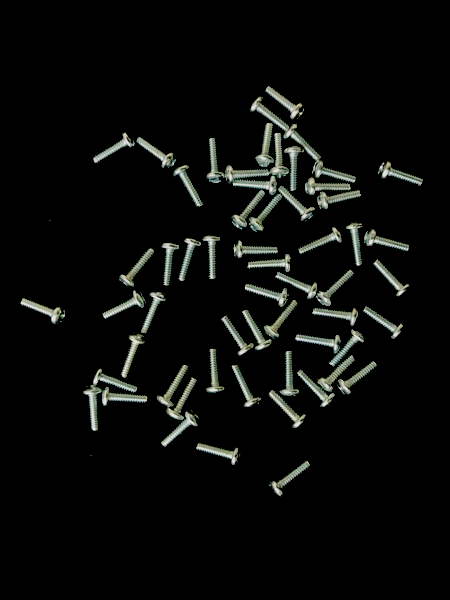shortscrew: (269, 461, 313, 498), (269, 390, 308, 431), (297, 370, 337, 409), (172, 165, 207, 209), (160, 411, 201, 448), (374, 259, 411, 300), (337, 361, 379, 397), (317, 269, 356, 307), (118, 248, 155, 288), (363, 304, 404, 340), (93, 131, 137, 164), (318, 356, 356, 394), (284, 124, 322, 162), (277, 186, 316, 223), (330, 328, 366, 368), (264, 299, 300, 339), (265, 85, 306, 120), (243, 308, 275, 352), (221, 317, 255, 358), (231, 190, 265, 231), (20, 297, 68, 326), (136, 137, 178, 170), (166, 378, 198, 421), (232, 365, 263, 409), (275, 271, 319, 302), (158, 364, 189, 407), (102, 290, 146, 320), (298, 226, 343, 255), (248, 195, 282, 233), (92, 367, 138, 395), (140, 290, 168, 336), (249, 97, 288, 130), (378, 160, 424, 187), (120, 332, 146, 379), (243, 283, 290, 309), (317, 189, 363, 214), (312, 159, 357, 184), (196, 443, 242, 467), (365, 228, 409, 253), (178, 238, 202, 283), (283, 146, 305, 192), (295, 334, 342, 355), (82, 385, 103, 431), (204, 349, 225, 395), (280, 351, 301, 397), (249, 253, 295, 274), (311, 307, 359, 327), (304, 177, 352, 197), (345, 221, 366, 266), (204, 233, 224, 280), (206, 138, 226, 185), (254, 123, 274, 169), (100, 387, 148, 406), (233, 177, 280, 196), (225, 165, 271, 184), (271, 133, 290, 179), (234, 241, 279, 260), (162, 241, 180, 287)
